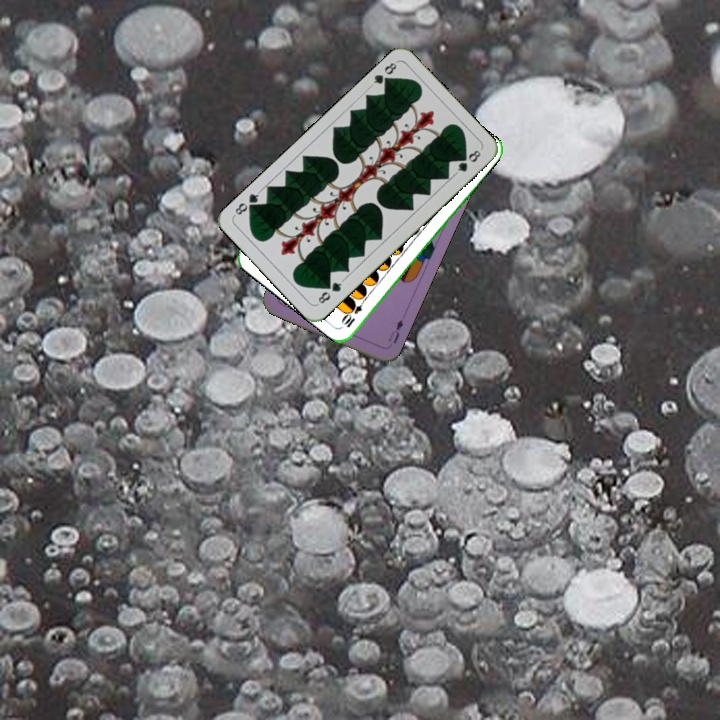E10: (339, 293, 369, 330)
EU: (384, 315, 406, 346)
G8: (313, 276, 346, 307), (366, 58, 399, 89)
